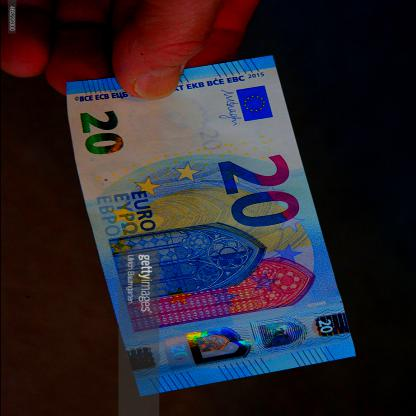euro_banknote: (35, 110, 378, 332)
